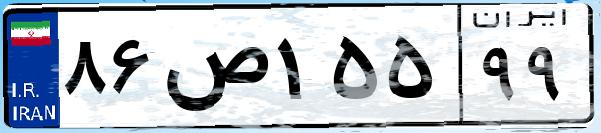1: (270, 28, 330, 110)
5: (385, 28, 445, 110), (330, 28, 385, 110)
6: (110, 28, 158, 98)
8: (57, 26, 110, 100)
9: (475, 38, 525, 113), (525, 38, 570, 115)
ص: (158, 20, 270, 120)
